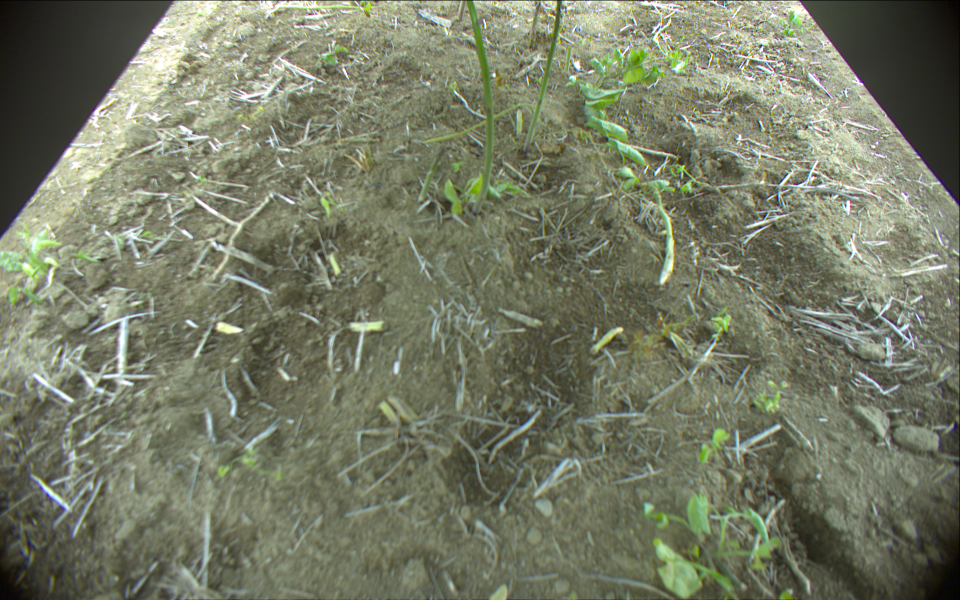aspa: (464, 1, 494, 214), (525, 1, 564, 152), (413, 101, 535, 146), (655, 190, 673, 285), (268, 1, 377, 11), (529, 1, 544, 47)
